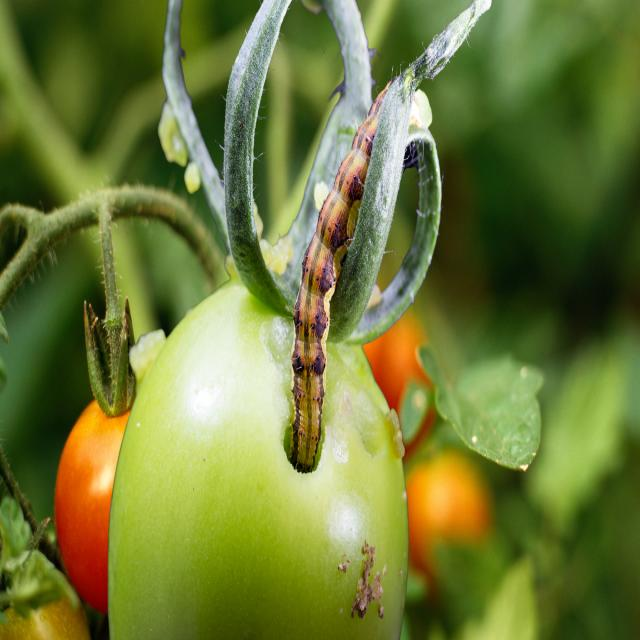worm: (292, 63, 408, 487)
